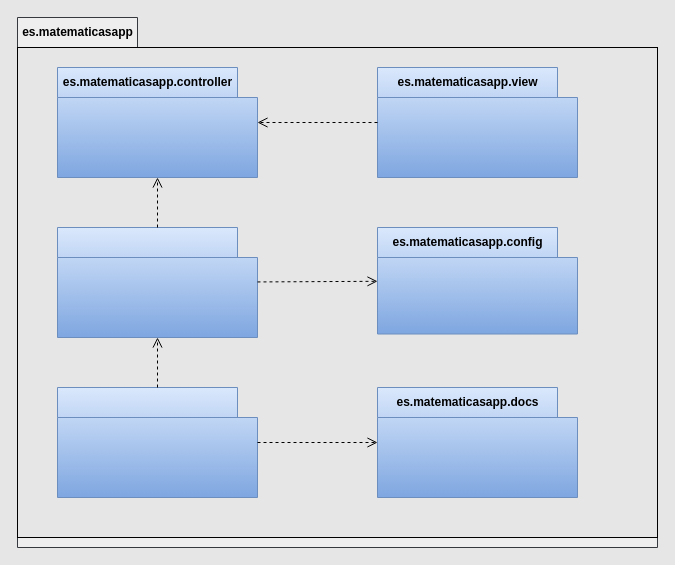
This 675x565 diagram has some shape labels left out. The shapes that lost their labels are listed below. From the top down, each one's box as (x1, y1, x2, y2) in pixels, then its label:
(56, 226, 258, 338): es.matematicasapp.model
(56, 386, 258, 498): es.matematicasapp.resources
